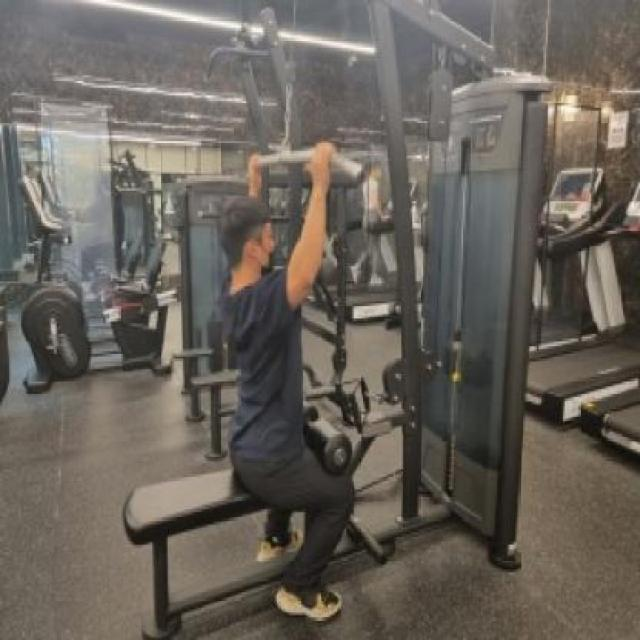Lat Pull Down: (105, 0, 549, 640)
